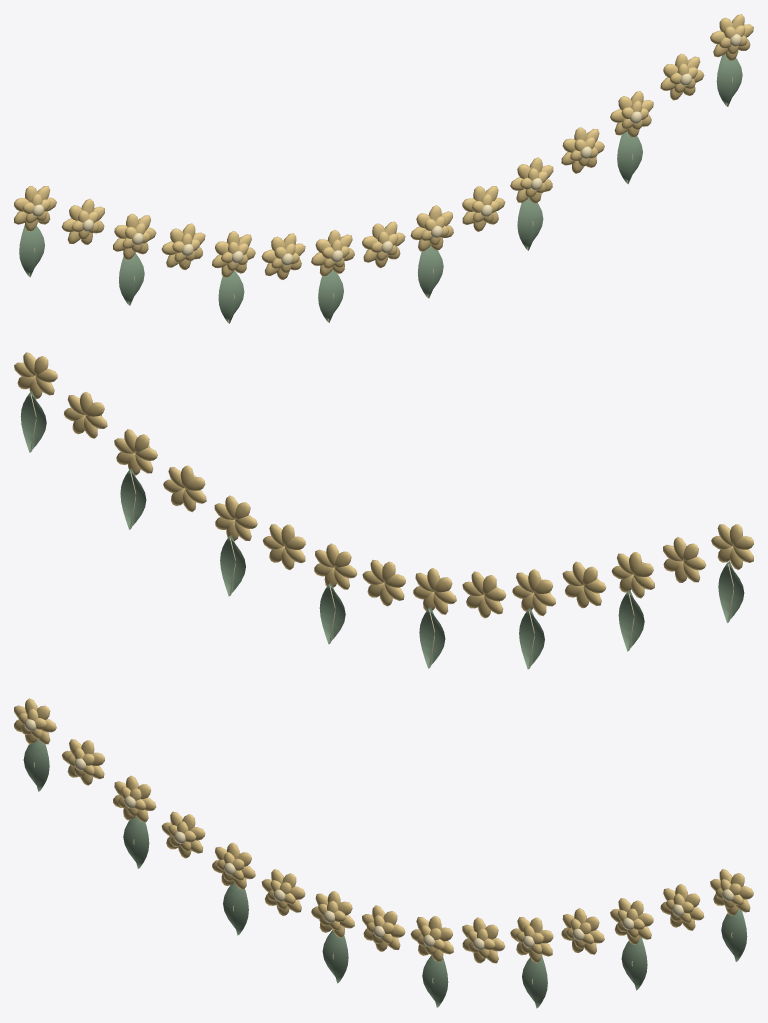
Rendered from marigold-garland.glb.
3 renders of one model, top to bottom at view 1: azimuth 30°, elevation 25°; view 2: azimuth 150°, elevation 25°; view 3: azimuth 330°, elevation 25°, orthographic.
Parts seen in each view (by area): view 1: petals-0, leaf-2, heart-1; view 2: petals-0, leaf-2, vein-3; view 3: petals-0, leaf-2, heart-1.
Boxes of the visible parts, x1,y1,x2,y2 form: petals-0: [14, 14, 753, 279]; leaf-2: [19, 53, 742, 323]; heart-1: [32, 34, 741, 265]; petals-0: [14, 352, 753, 618]; leaf-2: [20, 391, 744, 669]; vein-3: [30, 394, 733, 668]; petals-0: [14, 698, 753, 963]; leaf-2: [23, 739, 747, 1008]; heart-1: [24, 719, 733, 950].
Size of the model in its own units: 3.18 by 0.8805 by 0.0919.
